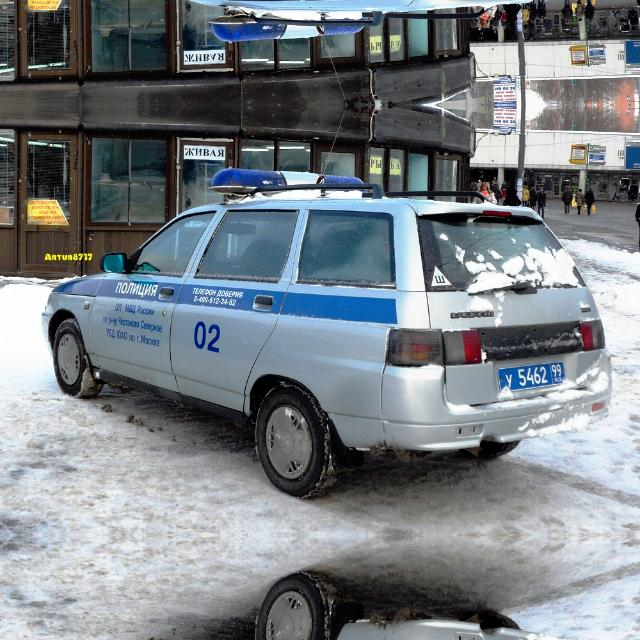police: (494, 354, 568, 398)
